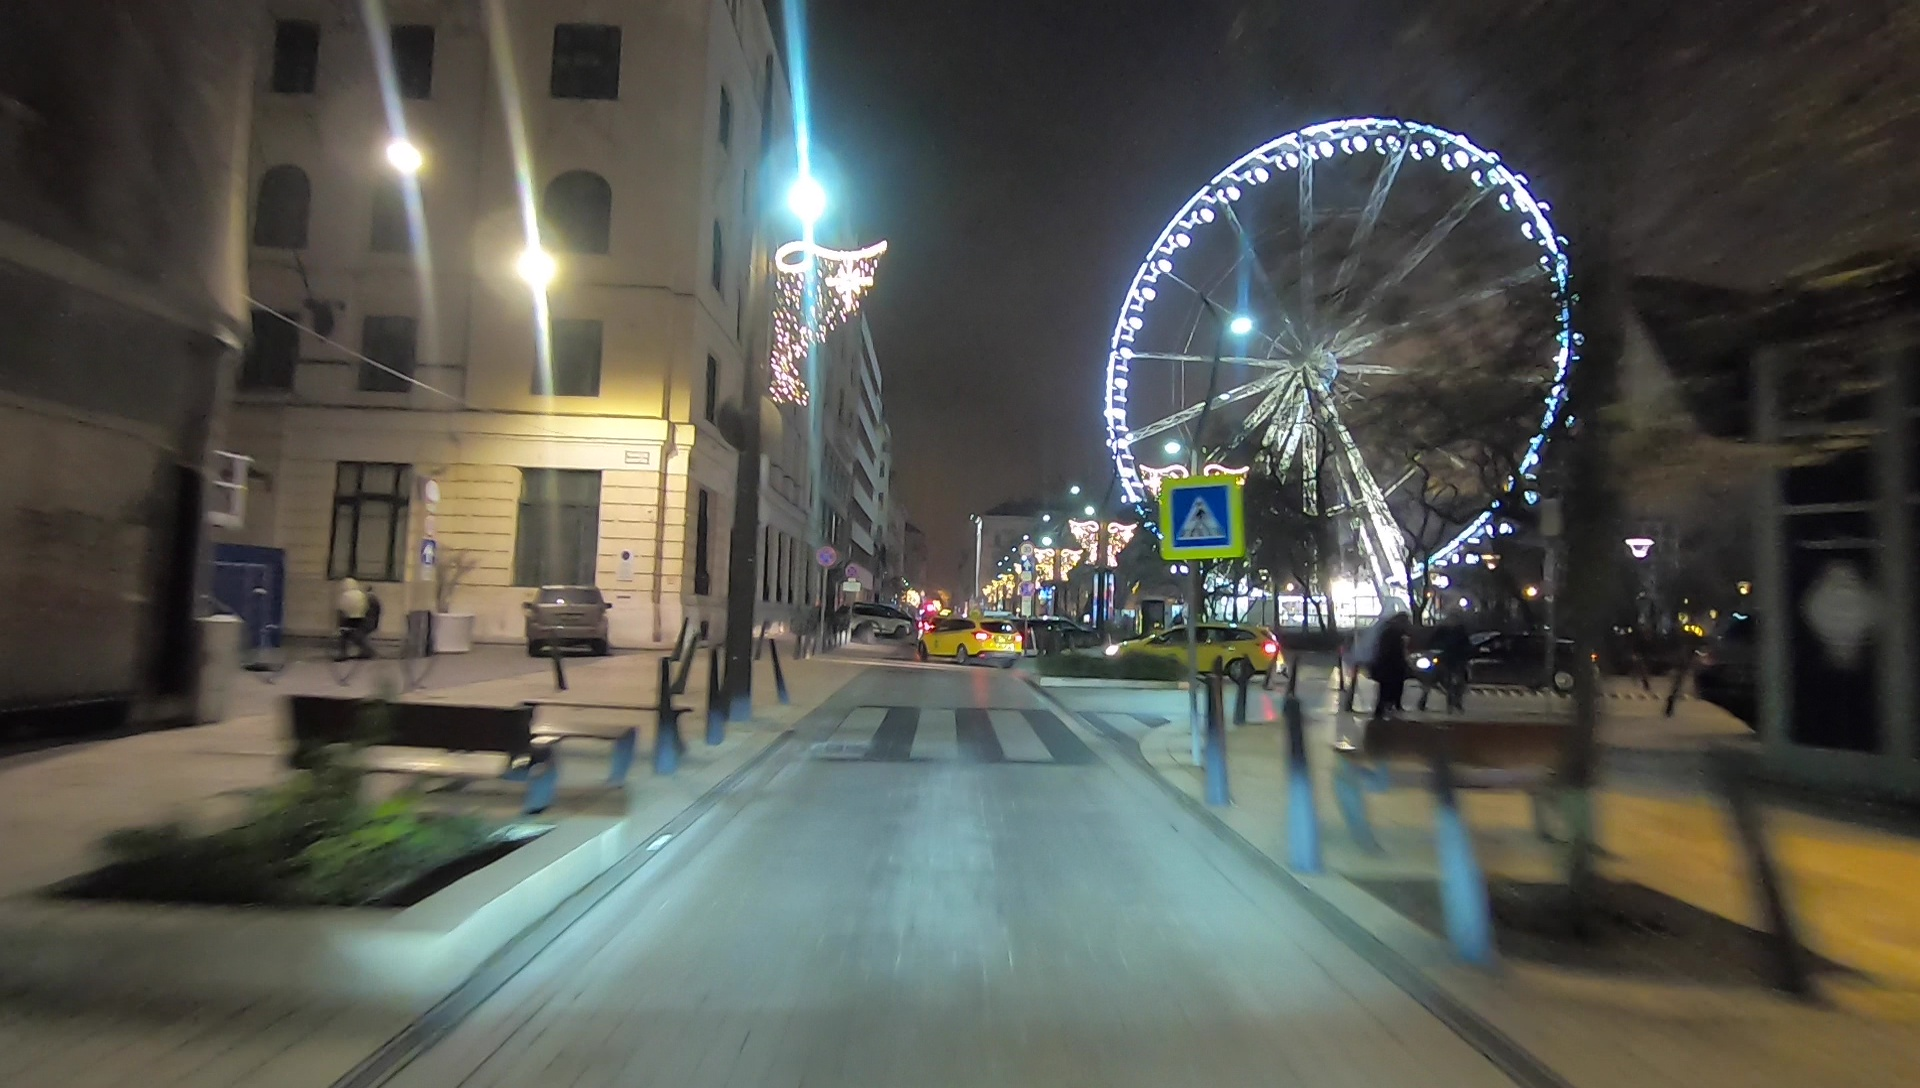person: (1375, 611, 1408, 717), (1432, 632, 1469, 724), (334, 578, 362, 658), (360, 582, 384, 654)
